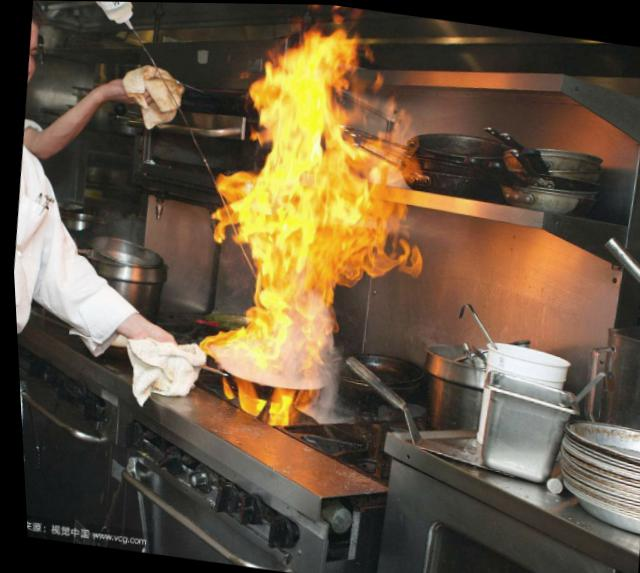fire: (207, 168, 417, 275), (238, 241, 336, 372), (259, 121, 414, 195), (243, 49, 335, 128), (287, 24, 357, 74), (195, 323, 248, 362), (228, 375, 263, 414), (260, 385, 292, 423), (379, 112, 411, 149), (288, 386, 312, 410), (215, 376, 232, 399)
